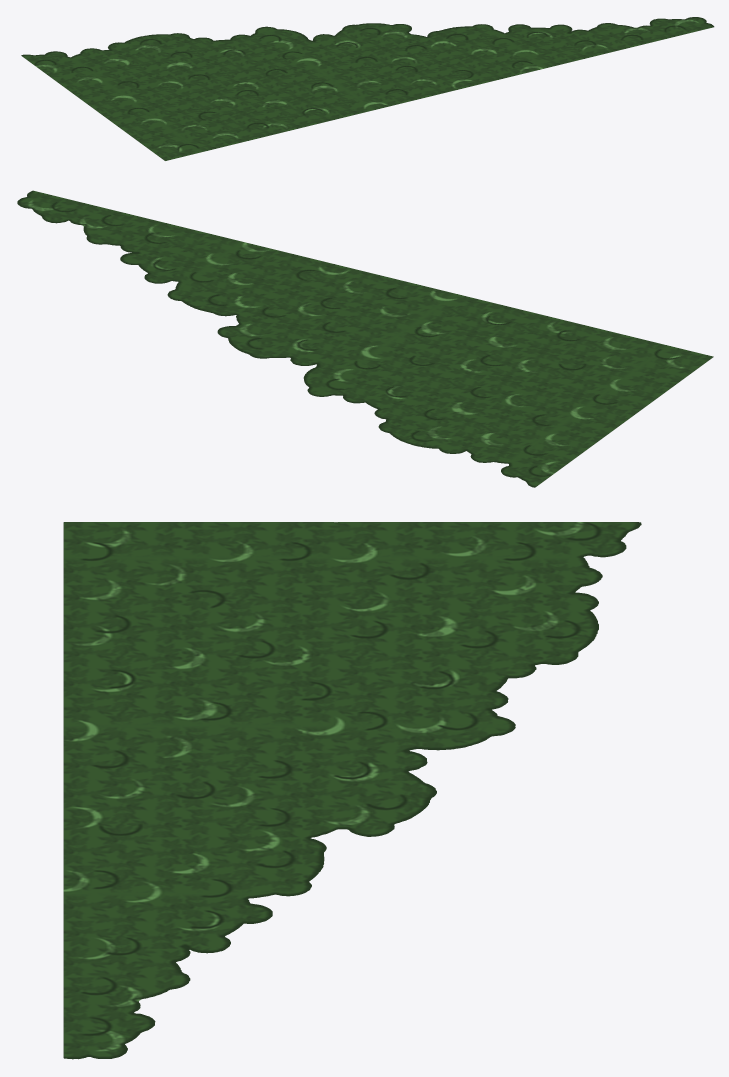
Rendered from bosqueback.fbx.
3 views of the same model, one above another, from view 1: azimuth 30°, elevation 25°; view 2: azimuth 150°, elevation 25°; view 3: azimuth 270°, elevation 25° (orthographic). The views are drawn at different scales.
Visible parts, largest first — view 1: pPlane2; view 2: pPlane2; view 3: pPlane2.
Boxes of the visible parts, box(x1,y1,x2,y2) form: pPlane2: box(21, 17, 714, 161); pPlane2: box(17, 190, 713, 487); pPlane2: box(63, 522, 641, 1059).
Size of the model in its own units: 25.85 by 0 by 12.26.
Materials: 1 (1 with a texture image).
